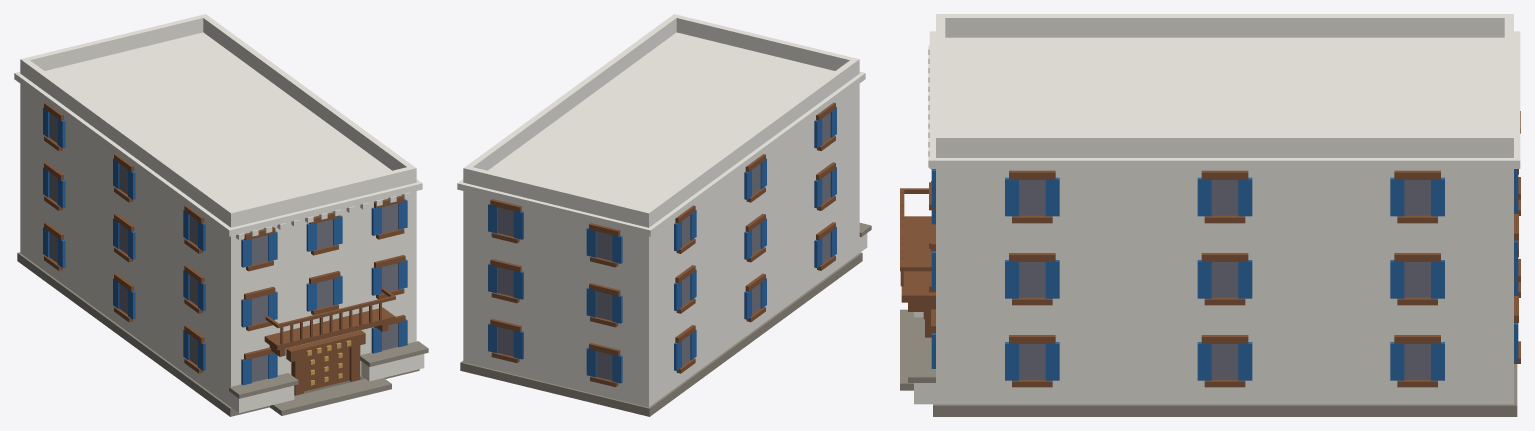
File: house-1x2-3f-swahili-a.glb
3 views of the same model, side by side, from view 1: azimuth 30°, elevation 25°; view 2: azimuth 150°, elevation 25°; view 3: azimuth 270°, elevation 25° (orthographic). The views are drawn at different scales.
Parts seen in each view (by area): view 1: house-1x2-3f-swahili-a; view 2: house-1x2-3f-swahili-a; view 3: house-1x2-3f-swahili-a.
Boxes of the visible parts, box(x1,y1,x2,y2) form: house-1x2-3f-swahili-a: box(14, 14, 428, 416); house-1x2-3f-swahili-a: box(457, 14, 871, 416); house-1x2-3f-swahili-a: box(900, 14, 1520, 416).
Bounding box in the file's own units: 0.984 × 0.98 × 1.99.
Materials: 1 (1 with a texture image).
